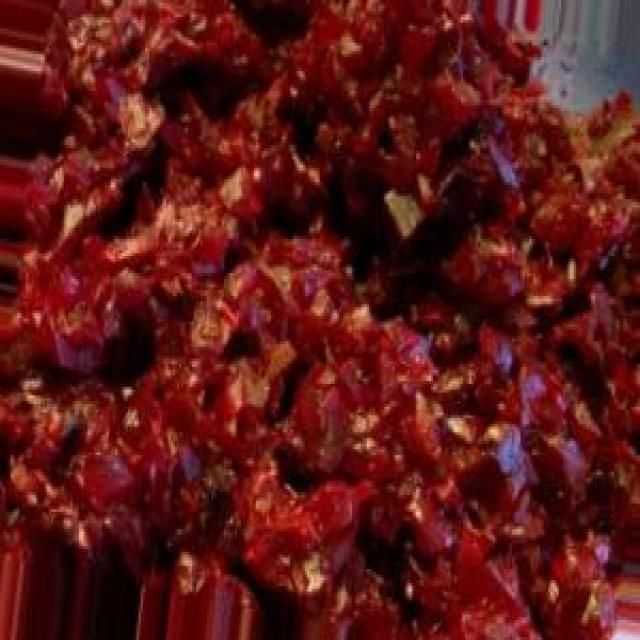healthy coral: (6, 3, 640, 636)
